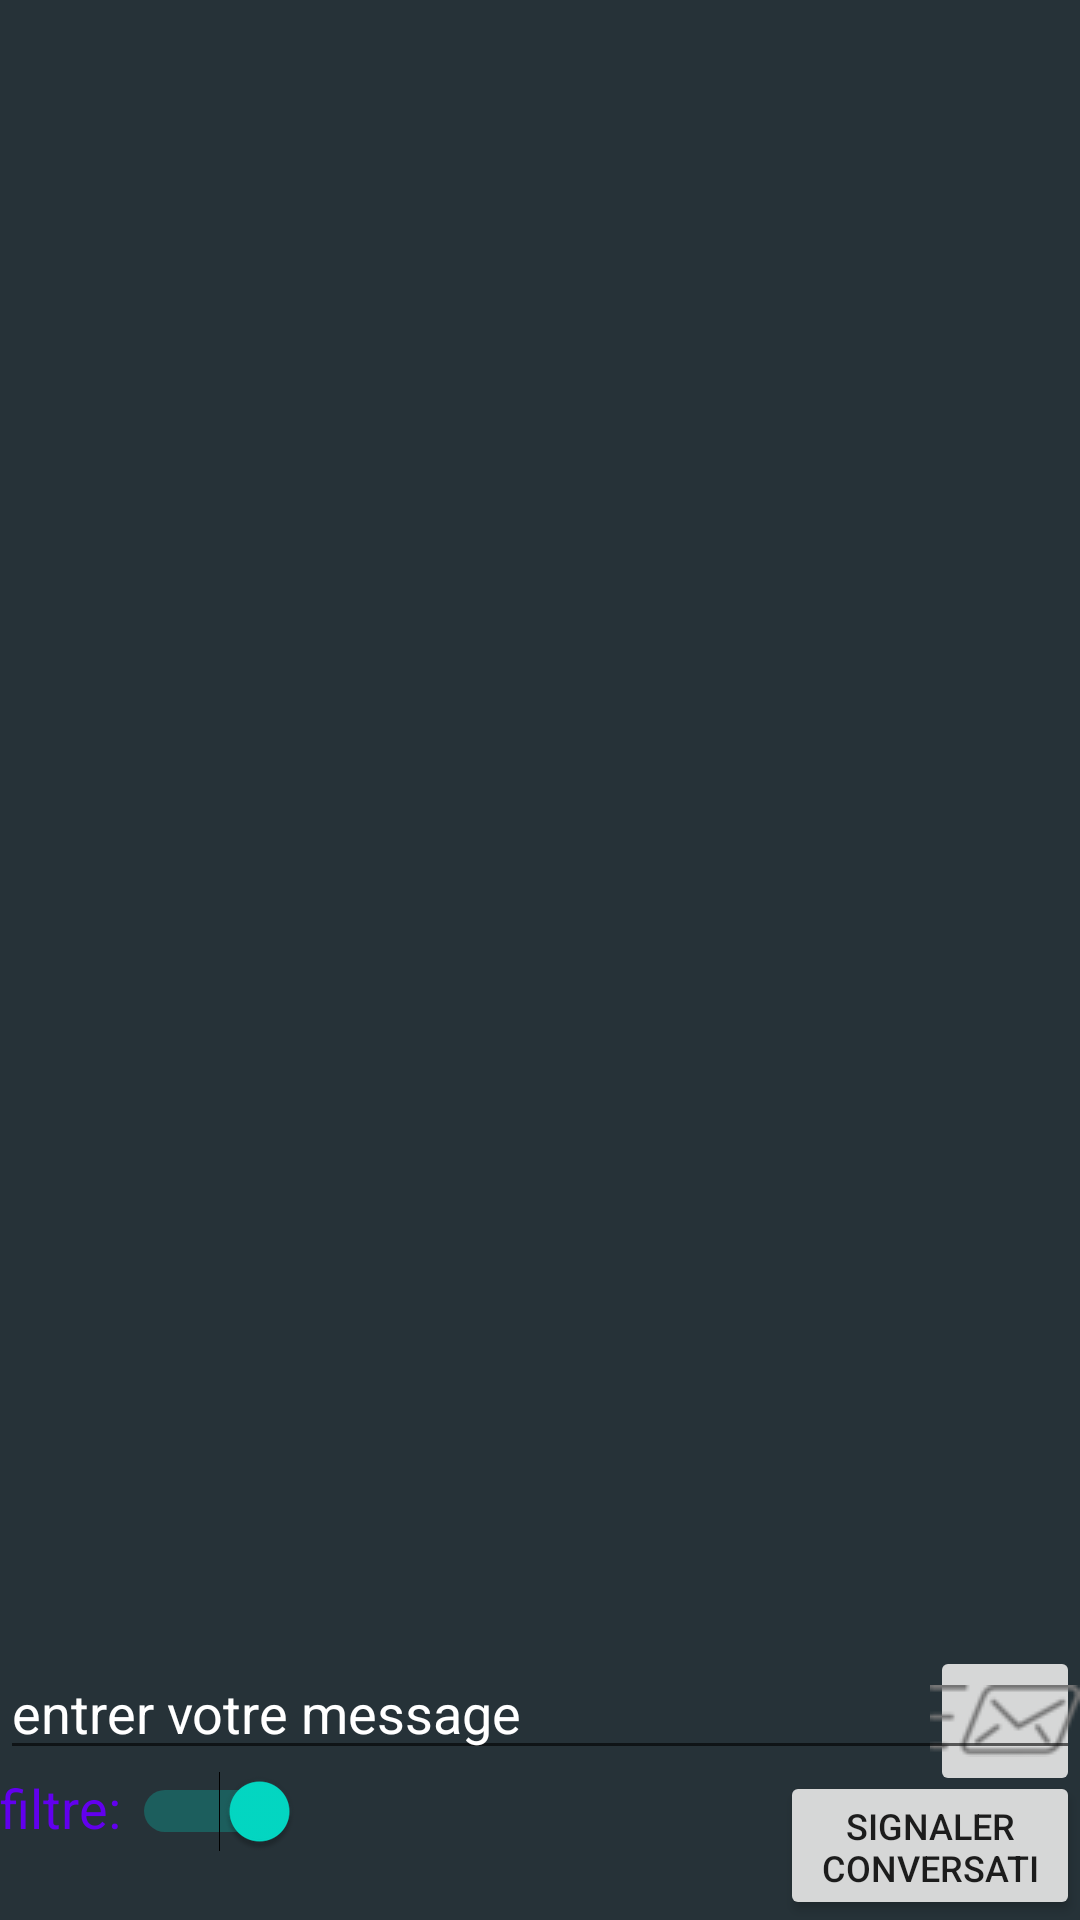

Icon click points for this 1080w x 1920h phone screenshot, format (x=x, y=y):
send: (x=1005, y=1730)
